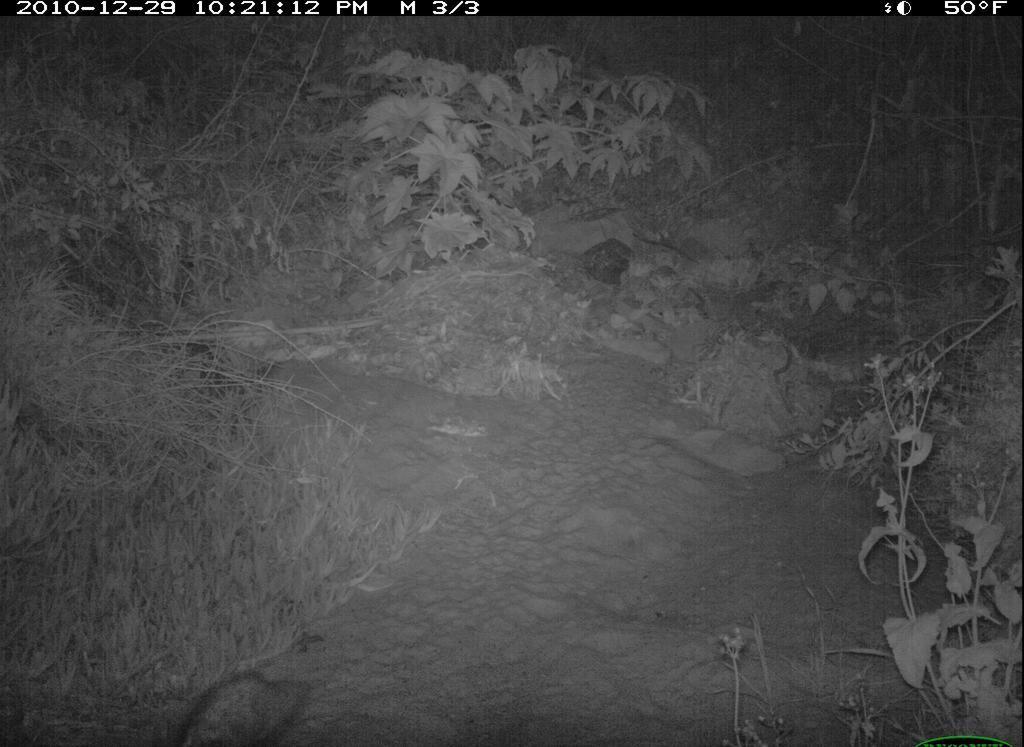opossum: (166, 656, 335, 747)
